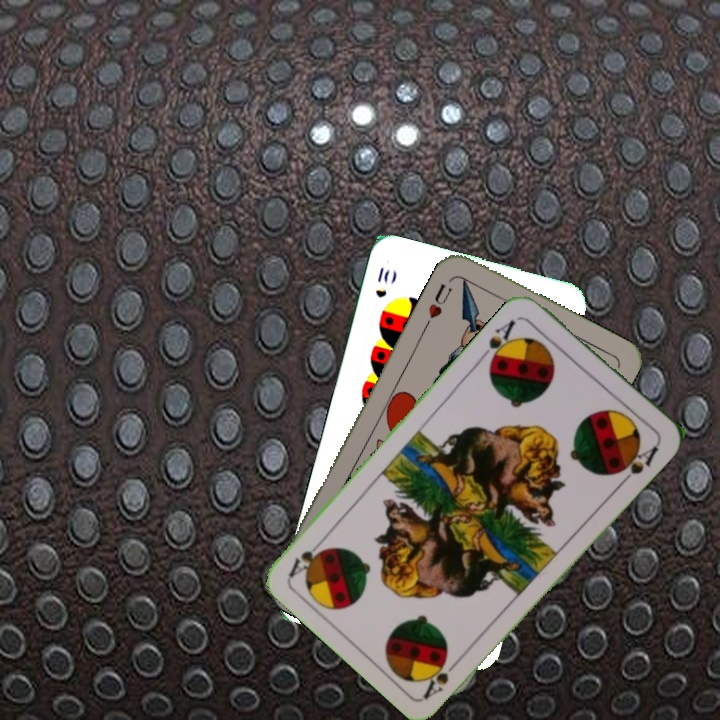HU: (421, 279, 455, 329)
S10: (371, 262, 393, 301)
SA: (420, 652, 465, 701), (478, 315, 520, 366)
